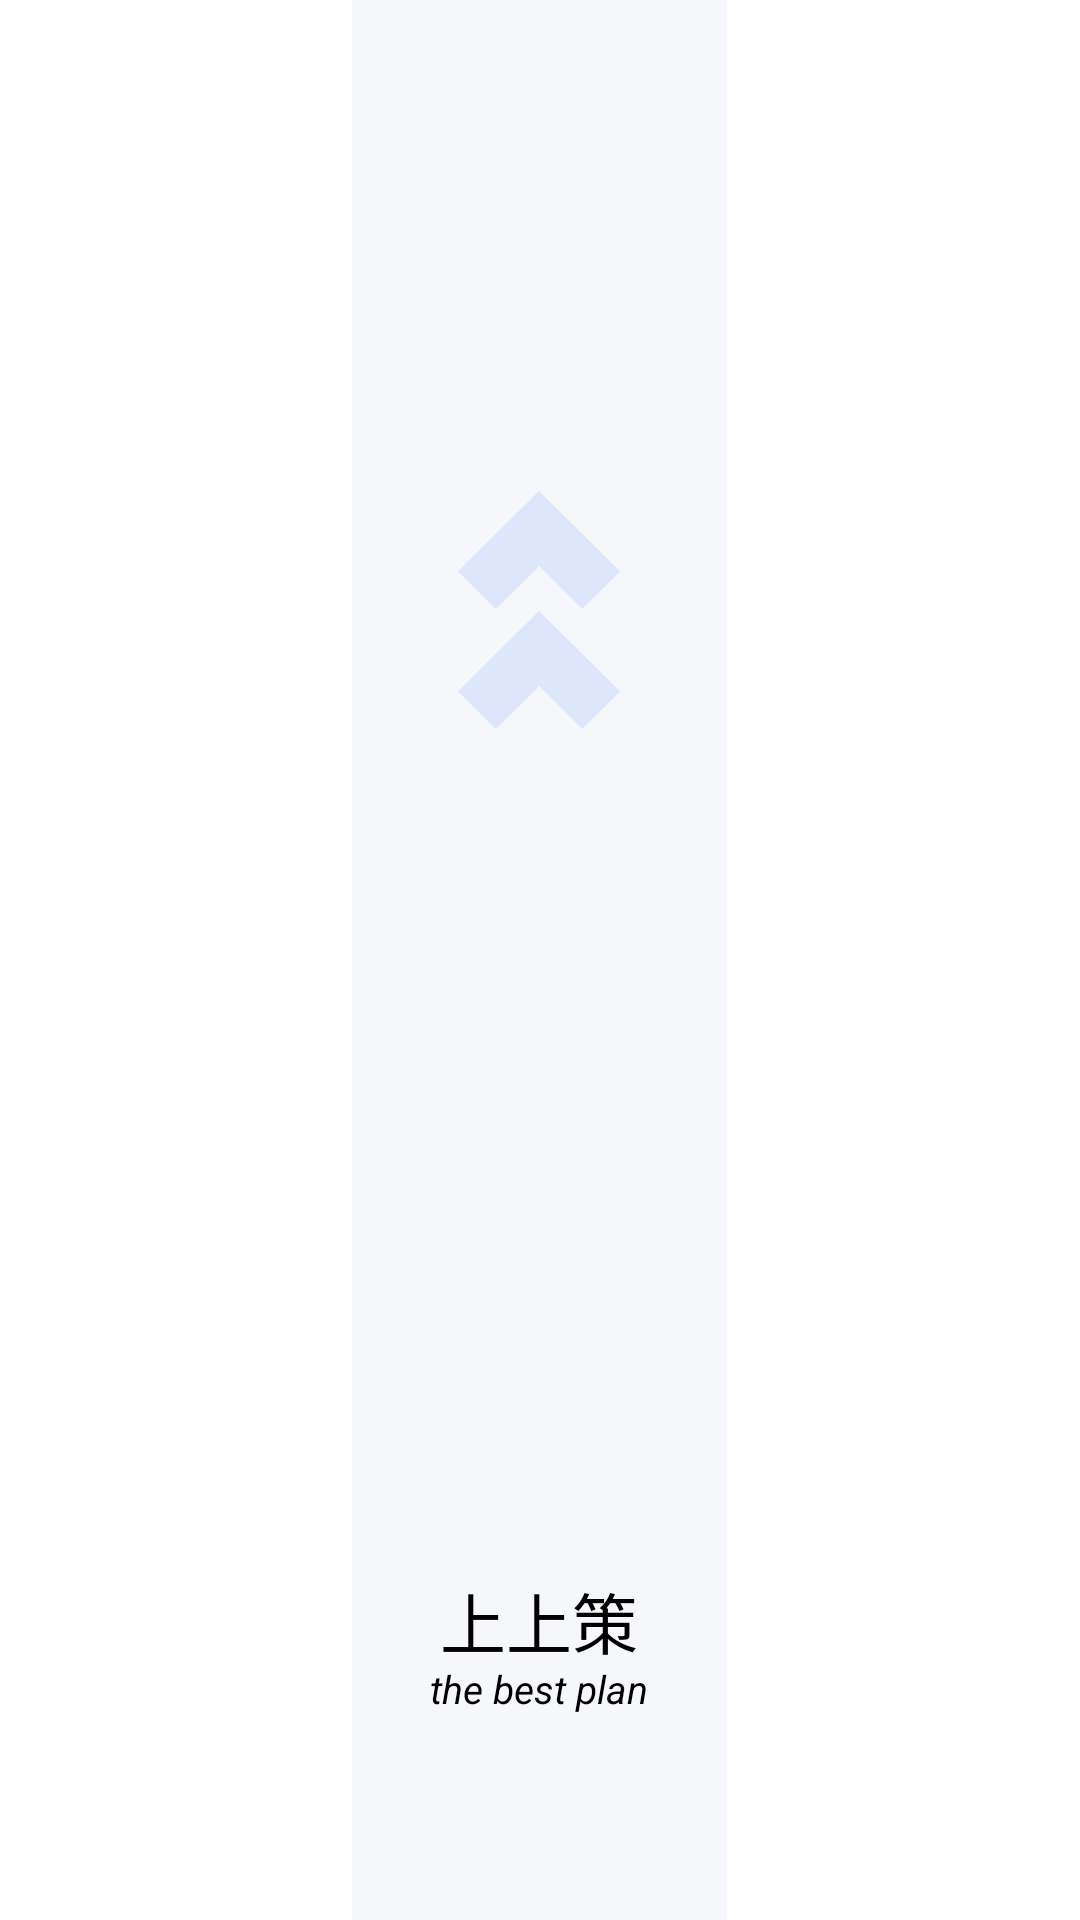

Icon click points for this 1080x1920 phone screenshot, format [x,y]:
huanyingye jiantou: [539,610]
